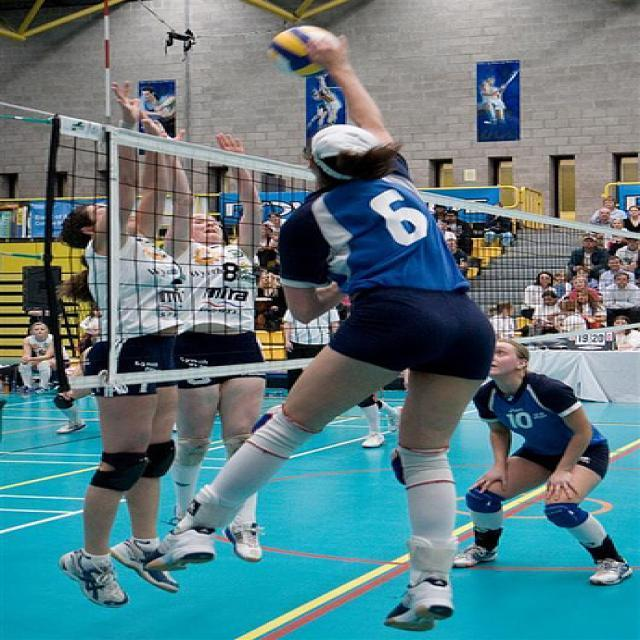volleyball: (268, 26, 342, 78)
